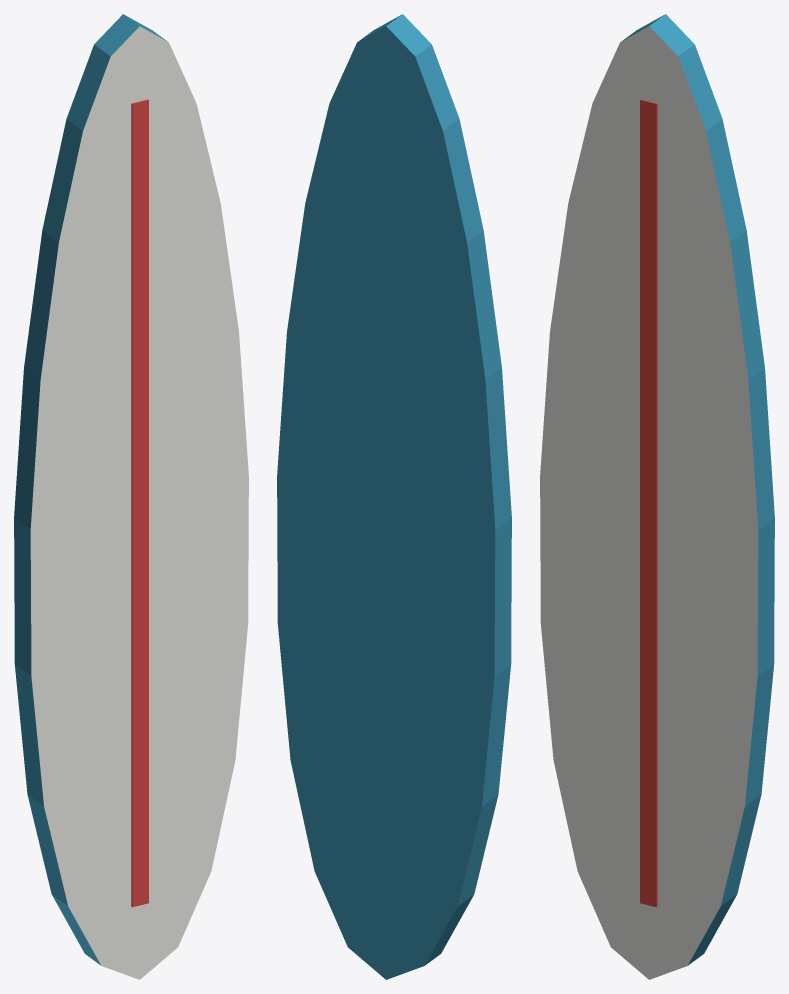
The model's file is surfboard.obj.
3 views of the same model, side by side, from view 1: azimuth 30°, elevation 25°; view 2: azimuth 150°, elevation 25°; view 3: azimuth 330°, elevation 25° (orthographic).
Visible parts, largest first — view 1: surfboard; view 2: surfboard; view 3: surfboard.
Part boxes in pixels (bbox=[...]): surfboard: bbox=[14, 14, 248, 979]; surfboard: bbox=[277, 14, 511, 979]; surfboard: bbox=[540, 14, 774, 979].
Size of the model in its own units: 0.455 by 1.9 by 0.063.
